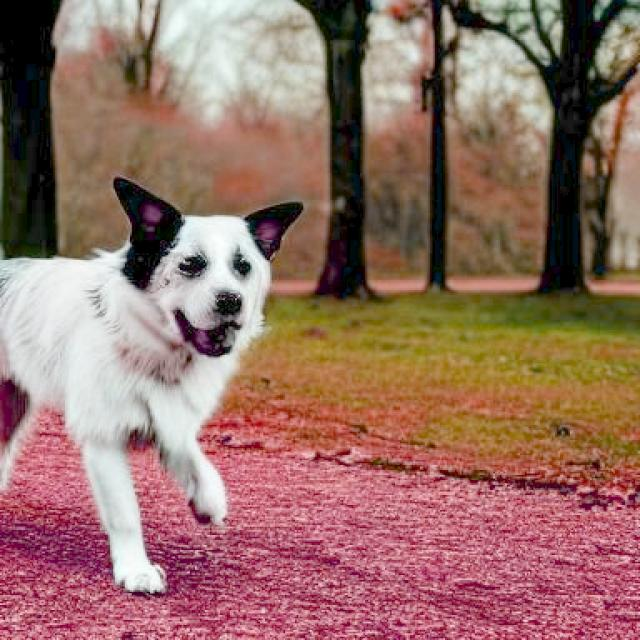Dog: (0, 175, 306, 595)
